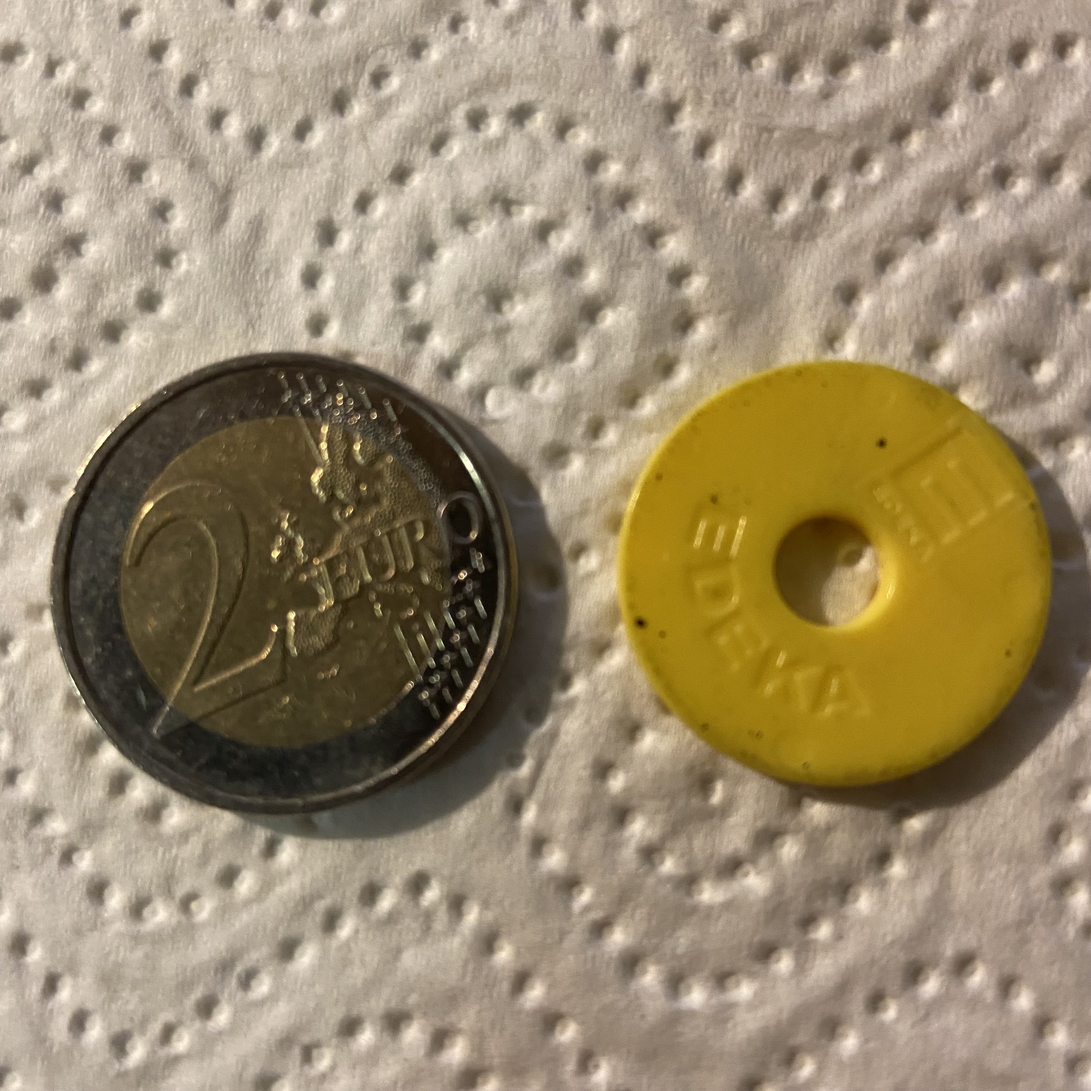2 euro: (37, 345, 540, 831)
